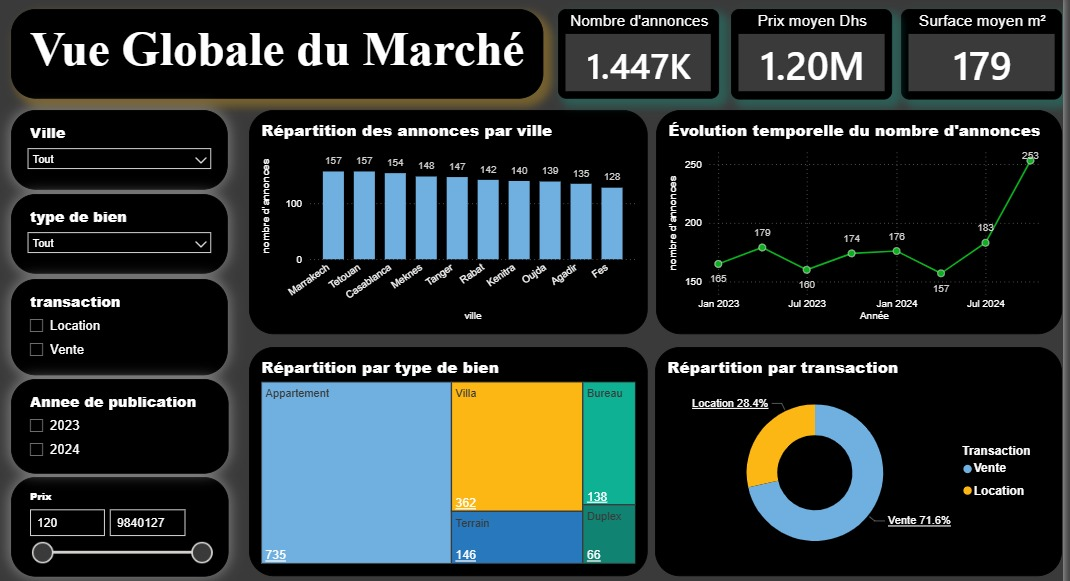

What the dashboard file says about the page in this screenshot:
{"tool":"powerbi","page":{"name":" Vue Globale du Marché","canvas":[1280,720],"ordinal":0},"visuals":[{"type":"textbox","box":[14.4,16.9,640.5,108.4],"z":0},{"type":"slicer","fields":{"Values":["bi_schema dim_location.ville"]},"box":[14.4,138,261.4,96.4],"z":1000},{"type":"columnChart","title":"Répartition des annonces par ville","fields":{"Category":["bi_schema dim_location.ville"],"Y":["bi_schema dim_bien.nombre_total_annnces"]},"box":[300.9,138.2,480.9,285.1],"z":2000},{"type":"slicer","fields":{"Values":["bi_schema dim_bien.type_bien"]},"box":[14.4,240.1,261.4,96.4],"z":3000},{"type":"slicer","fields":{"Values":["bi_schema dim_transaction.transaction"]},"box":[14.4,341.6,261.4,115.7],"z":4000},{"type":"slicer","fields":{"Values":["bi_schema fact_annonces.prix"]},"box":[14.4,580.6,261.5,119.7],"z":5000},{"type":"slicer","fields":{"Values":["bi_schema dim_date.annee_publication"]},"box":[14.4,462.3,262.1,113.6],"z":6000},{"type":"cardVisual","title":"Nombre d''annonces","fields":{"Data":["bi_schema dim_bien.nombre_total_annnces"]},"box":[673,16.9,193.8,108.4],"z":7000},{"type":"cardVisual","title":"Surface moyen m²","fields":{"Data":["bi_schema dim_bien.surface_moyenne"]},"box":[1085.9,16.5,194.1,108.7],"z":8000},{"type":"cardVisual","title":"Prix moyen Dhs","fields":{"Data":["Avg(bi_schema fact_annonces.prix)"]},"box":[880.9,16.5,194.1,108.7],"z":9000},{"type":"lineChart","title":"Évolution temporelle du nombre d''annonces","fields":{"Category":["bi_schema dim_date.date_publication.Variation.Hiérarchie de dates.Année","bi_schema dim_date.date_publication.Variation.Hiérarchie de dates.Trimestre","bi_schema dim_date.date_publication.Variation.Hiérarchie de dates.Mois","bi_schema dim_date.date_publication.Variation.Hiérarchie de dates.Jour"],"Y":["CountNonNull(bi_schema fact_annonces.annonce_id)"]},"box":[790.5,138.2,489.5,285.1],"z":10000},{"type":"treemap","title":"Répartition par type de bien","fields":{"Group":["bi_schema dim_bien.type_bien"],"Values":["bi_schema dim_bien.nombre_total_annnces"]},"box":[300.8,432.1,480.7,287.6],"z":11000},{"type":"donutChart","title":"Répartition par transaction","fields":{"Y":["bi_schema dim_bien.nombre_total_annnces"],"Category":["bi_schema dim_transaction.transaction"]},"box":[790.4,432.1,489.6,287.6],"z":12000}]}

Visuals, with their boxes on the page's 1280x720 design canvas (x1, y1, x2, y2). These are canvas units, not pixel positions in the 1070x581 screenshot, which may show the page scaled, cropped or inside an application window:
textbox: 14,17,655,125
slicer - bi_schema dim_location.ville: 14,138,276,234
"Répartition des annonces par ville" columnChart: 301,138,782,423
slicer - bi_schema dim_bien.type_bien: 14,240,276,336
slicer - bi_schema dim_transaction.transaction: 14,342,276,457
slicer - bi_schema fact_annonces.prix: 14,581,276,700
slicer - bi_schema dim_date.annee_publication: 14,462,276,576
"Nombre d''annonces" cardVisual: 673,17,867,125
"Surface moyen m²" cardVisual: 1086,16,1280,125
"Prix moyen Dhs" cardVisual: 881,16,1075,125
"Évolution temporelle du nombre d''annonces" lineChart: 790,138,1280,423
"Répartition par type de bien" treemap: 301,432,782,720
"Répartition par transaction" donutChart: 790,432,1280,720
